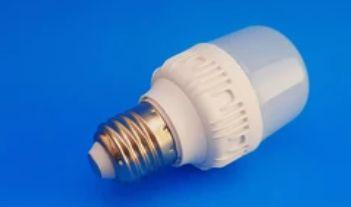light bulb: (87, 22, 312, 188)
